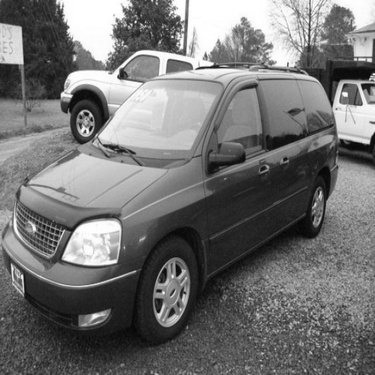car: (1, 60, 345, 350), (49, 48, 232, 162)
